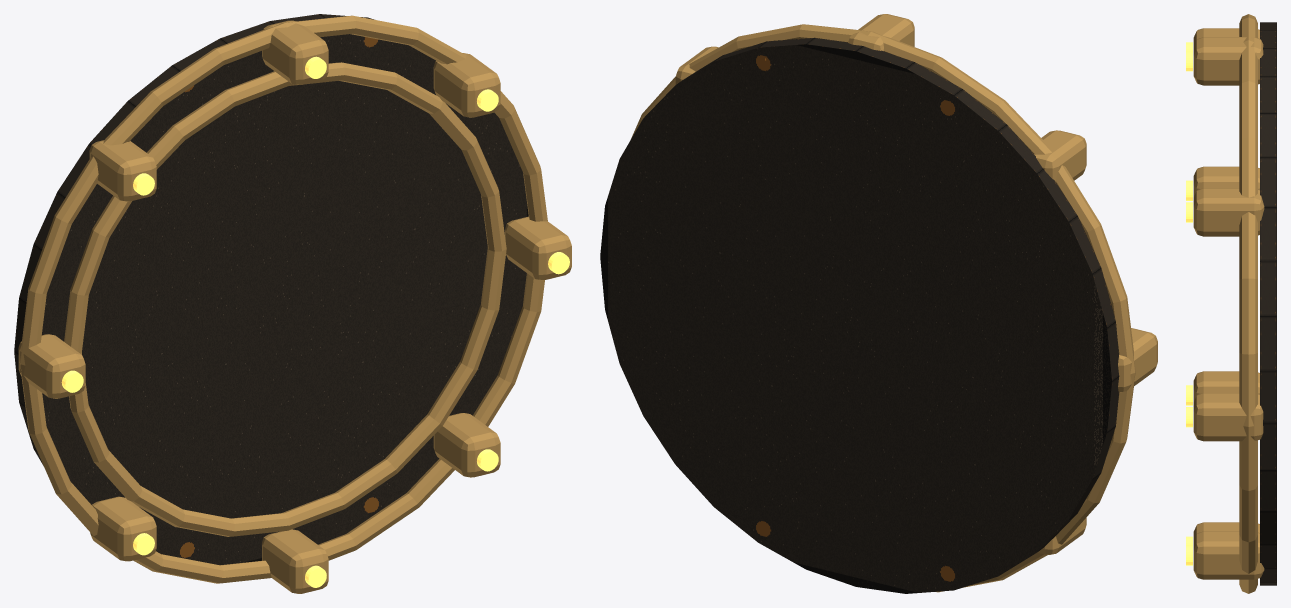
Rendered from dock-high.glb.
The picture shows the model from 3 angles, left to right: view 1: azimuth 30°, elevation 25°; view 2: azimuth 150°, elevation 25°; view 3: azimuth 270°, elevation 25°; orthographic projection. The views are drawn at different scales.
Parts seen in each view (by area): view 1: dock-root.002 / Riveted iron.008, dock-root.002 / Machined brass.008, dock-root.002 / Amber lamps.008; view 2: dock-root.002 / Riveted iron.008, dock-root.002 / Machined brass.008; view 3: dock-root.002 / Machined brass.008, dock-root.002 / Riveted iron.008, dock-root.002 / Amber lamps.008.
Boxes of the visible parts, x1,y1,x2,y2 form: dock-root.002 / Riveted iron.008: (14,14,528,565); dock-root.002 / Machined brass.008: (18,15,571,593); dock-root.002 / Amber lamps.008: (61,56,569,587); dock-root.002 / Riveted iron.008: (600,37,1119,593); dock-root.002 / Machined brass.008: (631,14,1157,592); dock-root.002 / Machined brass.008: (1193,14,1264,593); dock-root.002 / Riveted iron.008: (1260,22,1276,585); dock-root.002 / Amber lamps.008: (1186,42,1192,565).
Bounding box in the file's own units: 2.07 × 2.07 × 0.322.
Materials: 3 (1 with a texture image).
